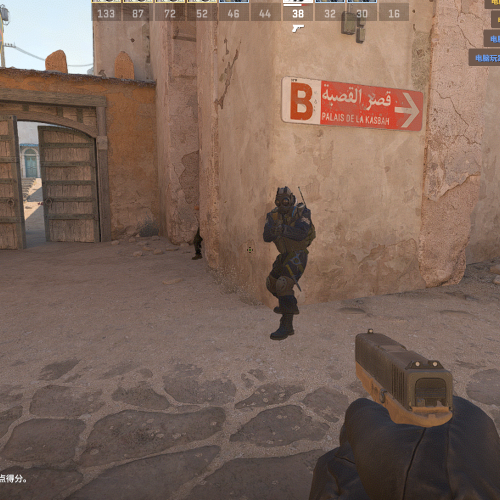ct_body: (263, 186, 315, 339)
ct_head: (274, 186, 294, 211)
